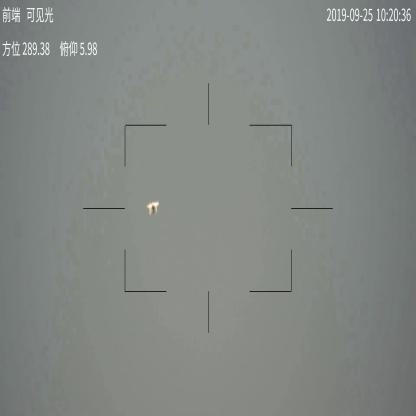uav: (146, 198, 160, 218)
